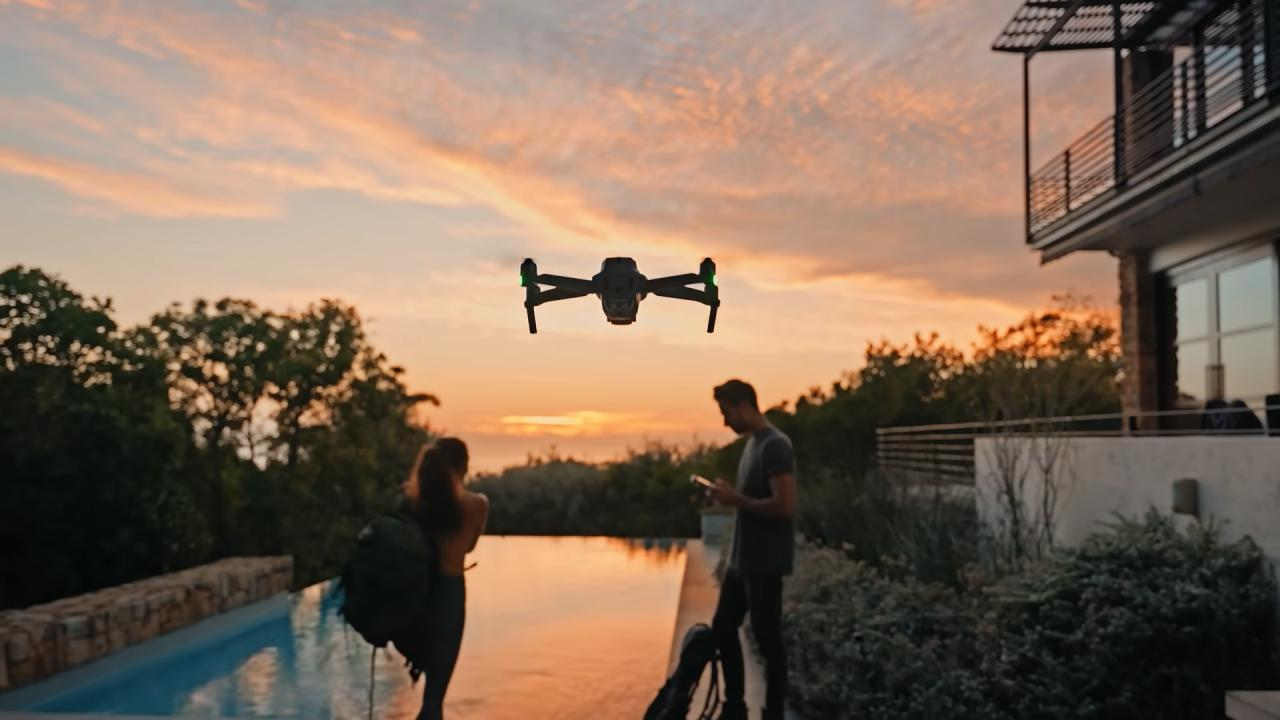Drone: (503, 243, 744, 347)
